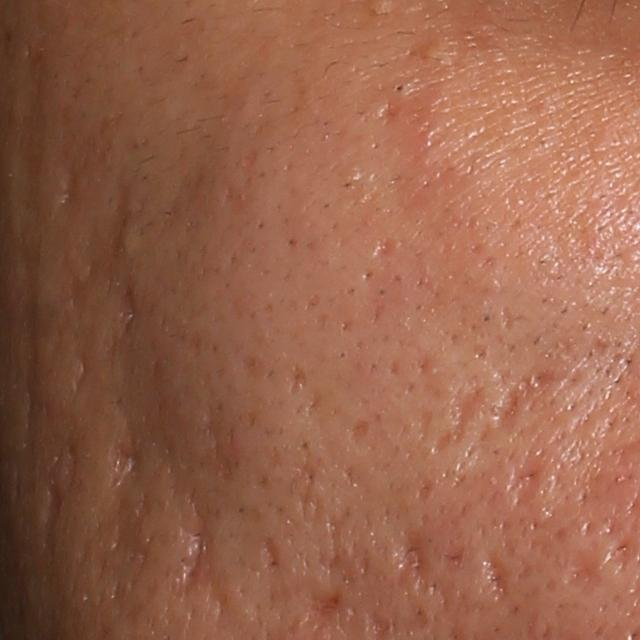atrophic_scar: (93, 424, 153, 589), (176, 493, 219, 587), (320, 518, 373, 586), (42, 448, 75, 554), (423, 393, 479, 455), (500, 375, 555, 428), (502, 455, 545, 511), (564, 543, 606, 599), (400, 526, 433, 579), (481, 549, 515, 600), (305, 587, 344, 629), (256, 533, 286, 579), (62, 353, 95, 394), (57, 166, 83, 216), (367, 234, 397, 262), (500, 300, 525, 332), (290, 362, 309, 393), (348, 418, 371, 443), (413, 482, 434, 501)
comedo: (420, 33, 443, 62)
